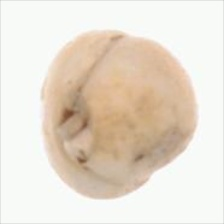L3: (55, 97, 96, 167)
L4: (40, 29, 199, 201)
